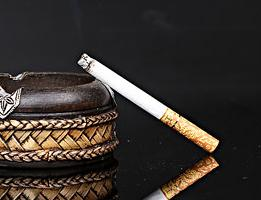smoke: (76, 51, 220, 154)
